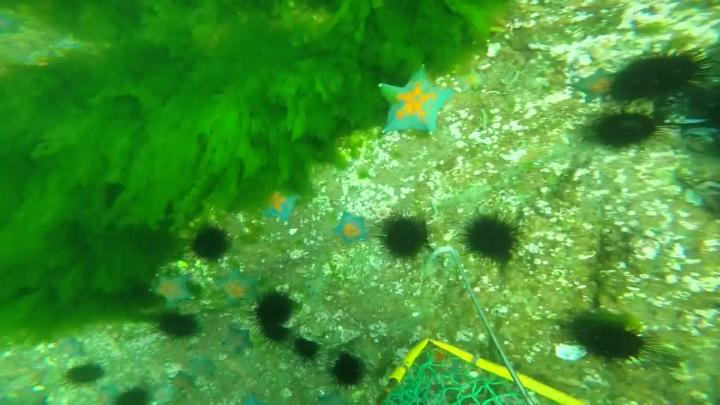echinus: (612, 48, 715, 98), (572, 317, 661, 365), (461, 217, 522, 267), (376, 211, 427, 263), (597, 111, 660, 148), (254, 292, 293, 344), (180, 226, 228, 259), (155, 312, 199, 340), (332, 354, 364, 385), (291, 339, 320, 359), (70, 364, 102, 382), (116, 388, 147, 405)
scallop: (555, 345, 588, 363), (491, 42, 502, 59)
starfish: (377, 62, 456, 137), (151, 276, 196, 306), (218, 271, 259, 303), (576, 69, 617, 101), (262, 191, 301, 222), (333, 214, 369, 246), (226, 331, 254, 352), (186, 361, 214, 378), (240, 397, 265, 405)
